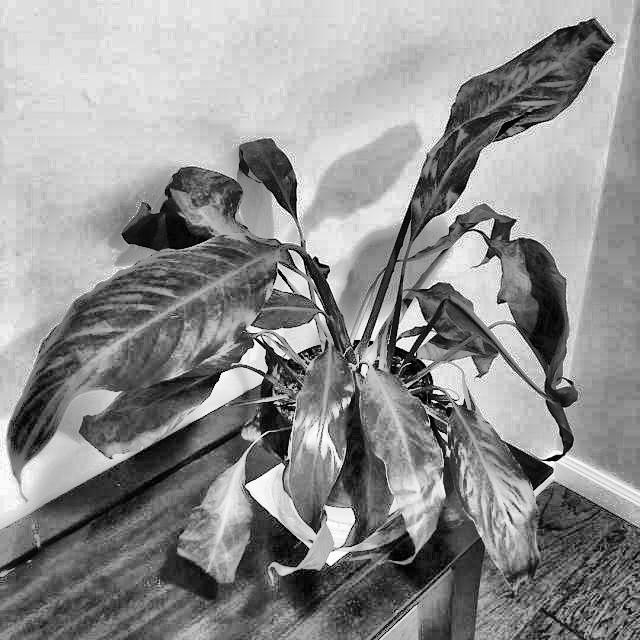plants: (13, 10, 640, 598), (470, 208, 603, 442), (106, 132, 282, 266), (496, 16, 622, 118)
